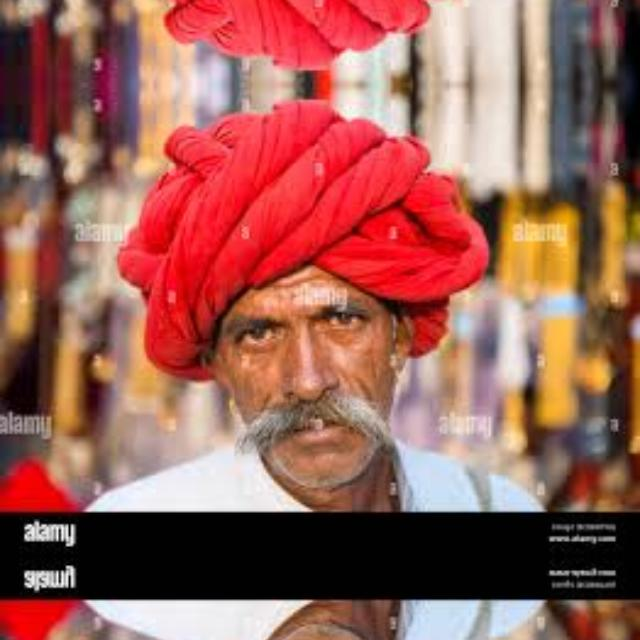person: (92, 91, 540, 527), (92, 0, 539, 77), (92, 584, 539, 640)
